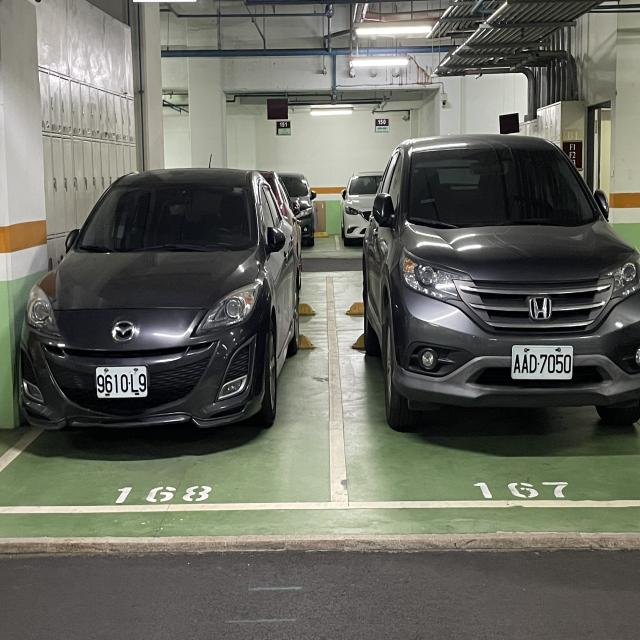license-plate: (511, 344, 574, 379), (96, 365, 148, 398)
